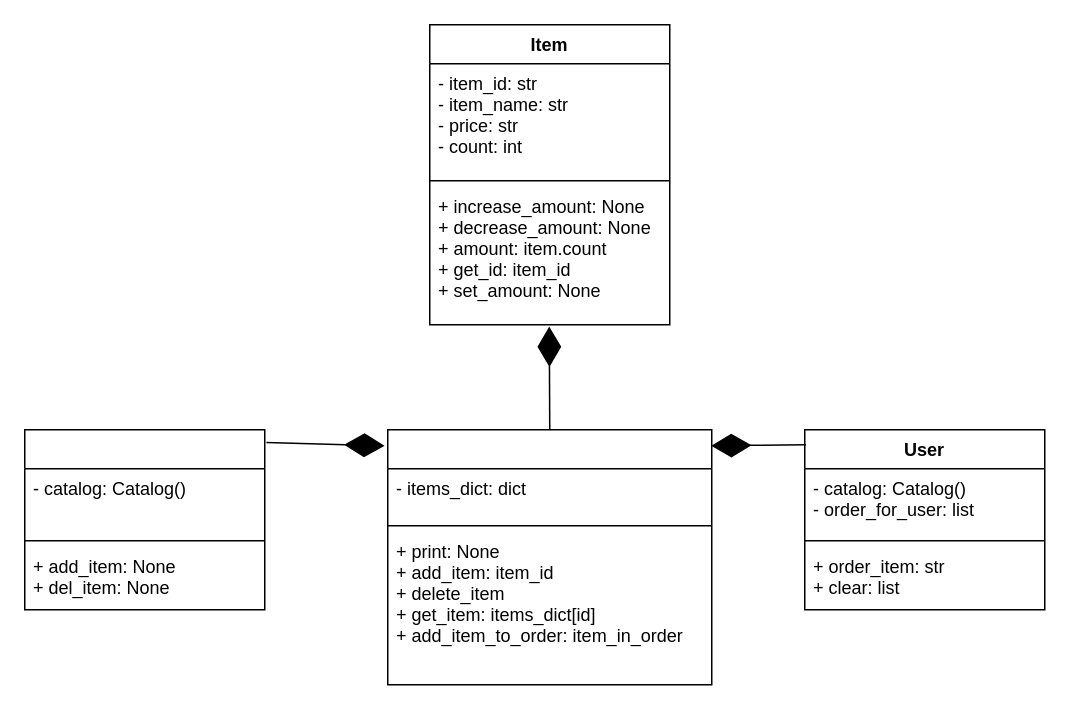
Image size: 1070x710. Some labels were removed from this diagram. The box of each missing label's shape, as (x1, y1, x2, y2) in pixels:
Administrator: (23, 428, 265, 610)
Catalog: (386, 428, 712, 685)
